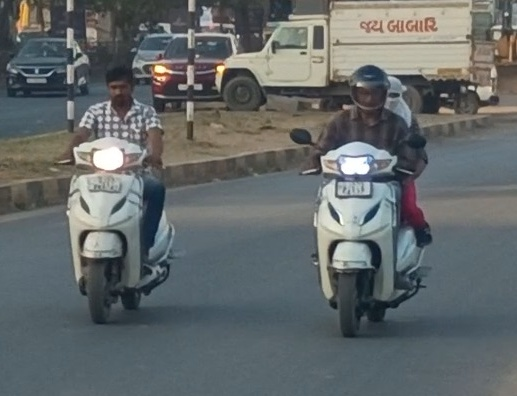BikeWithRider: (286, 62, 445, 346), (49, 65, 190, 328)
Helmet: (344, 63, 390, 117)
NoHelmet: (99, 65, 139, 110), (372, 72, 409, 115)
